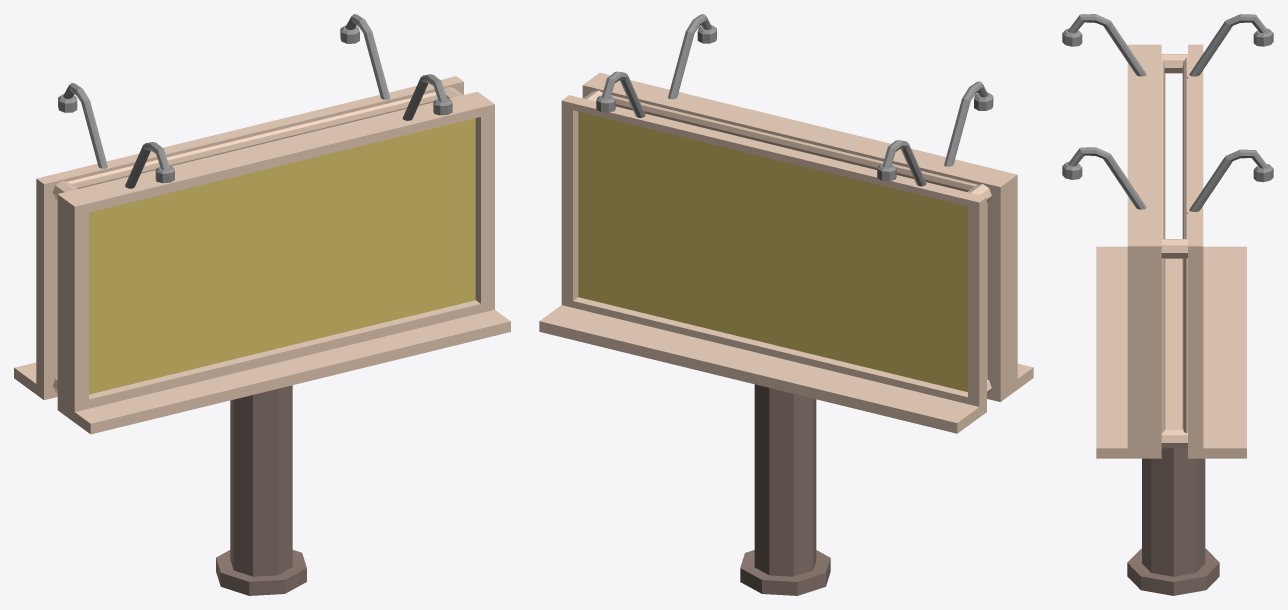
Rendered from Gp1Assets_Billboard (1).fbx.
The picture shows the model from 3 angles, left to right: view 1: azimuth 30°, elevation 25°; view 2: azimuth 150°, elevation 25°; view 3: azimuth 270°, elevation 25°; orthographic projection.
Visible parts, largest first — view 1: Cube.004, Cube.003, Cylinder.003, Cylinder.004; view 2: Cube.005, Cube.003, Cylinder.003, Cylinder.004; view 3: Cube.003, Cylinder.003, Cylinder.004.
Boxes of the visible parts, bbox=[...] form: Cube.004: bbox=[89, 118, 475, 394]; Cube.003: bbox=[14, 76, 510, 434]; Cylinder.003: bbox=[216, 385, 306, 595]; Cylinder.004: bbox=[58, 14, 452, 188]; Cube.005: bbox=[578, 111, 967, 391]; Cube.003: bbox=[539, 72, 1033, 433]; Cylinder.003: bbox=[740, 384, 830, 595]; Cylinder.004: bbox=[596, 14, 993, 186]; Cube.003: bbox=[1096, 44, 1246, 458]; Cylinder.003: bbox=[1127, 448, 1219, 595]; Cylinder.004: bbox=[1062, 14, 1273, 213].
Bounding box in the file's own units: 647 × 736 × 287.
